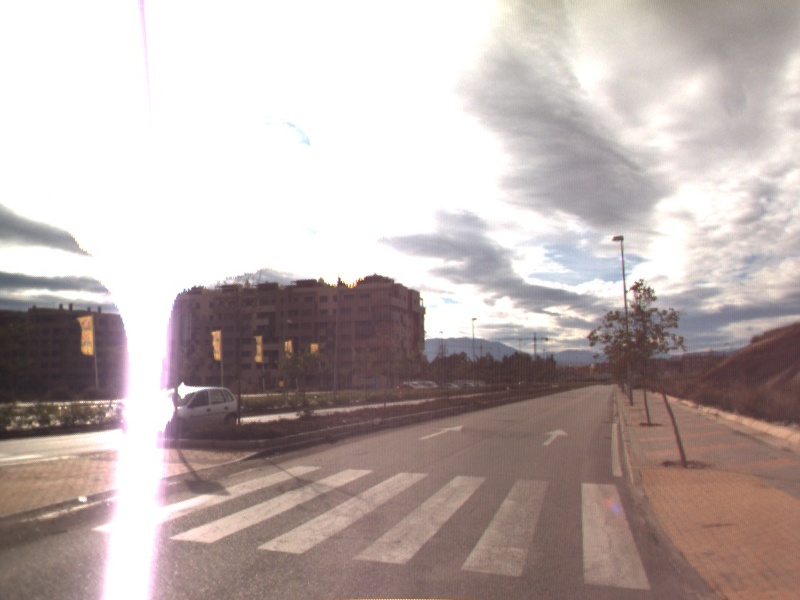STRAIGHT: (417, 423, 466, 442), (541, 427, 571, 448)
